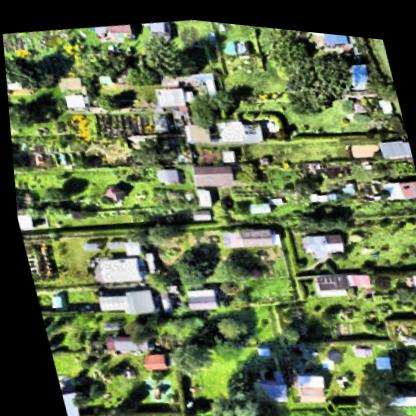tree-top: (274, 36, 357, 115), (331, 364, 410, 416), (182, 83, 243, 128), (3, 45, 54, 97), (138, 26, 189, 77), (190, 382, 262, 416), (285, 196, 350, 233), (205, 248, 258, 286), (160, 334, 207, 374), (163, 247, 207, 289), (270, 28, 314, 59), (6, 95, 33, 139), (31, 177, 69, 208), (201, 331, 237, 363), (278, 170, 313, 200), (87, 84, 123, 113), (140, 218, 173, 247), (206, 310, 241, 336), (283, 23, 317, 32)
